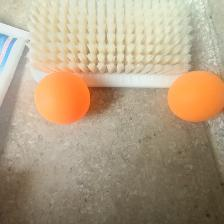YellowBall: (33, 72, 91, 125), (166, 70, 224, 123)
